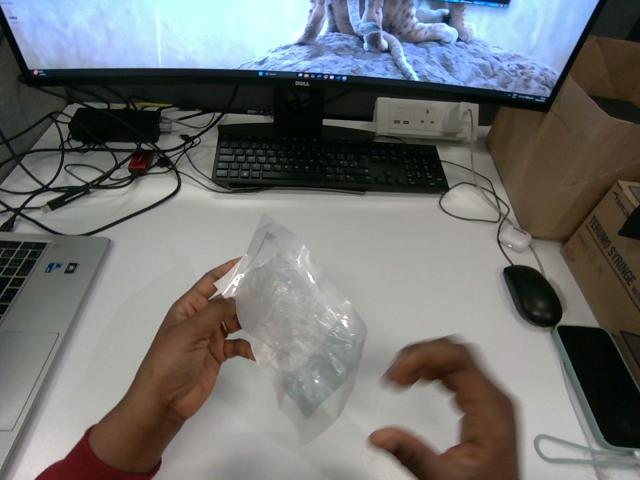gallipot: (216, 215, 366, 440)
